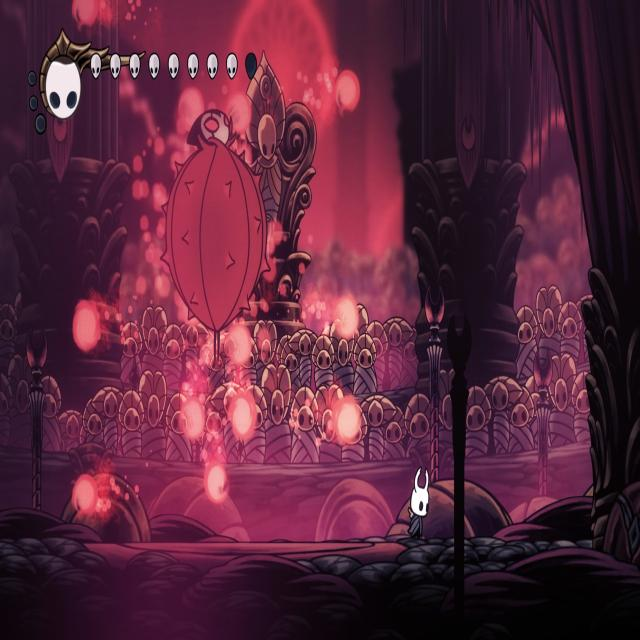Player: (406, 462, 432, 539)
Pufferfish: (158, 106, 276, 367)
Tiny Fireballs: (72, 300, 101, 353), (176, 87, 205, 136), (71, 473, 101, 519), (336, 69, 360, 116), (225, 324, 252, 364), (336, 398, 360, 442), (182, 398, 205, 440), (335, 298, 358, 340), (229, 93, 251, 133), (206, 464, 228, 502), (72, 0, 99, 29), (232, 398, 251, 436)
